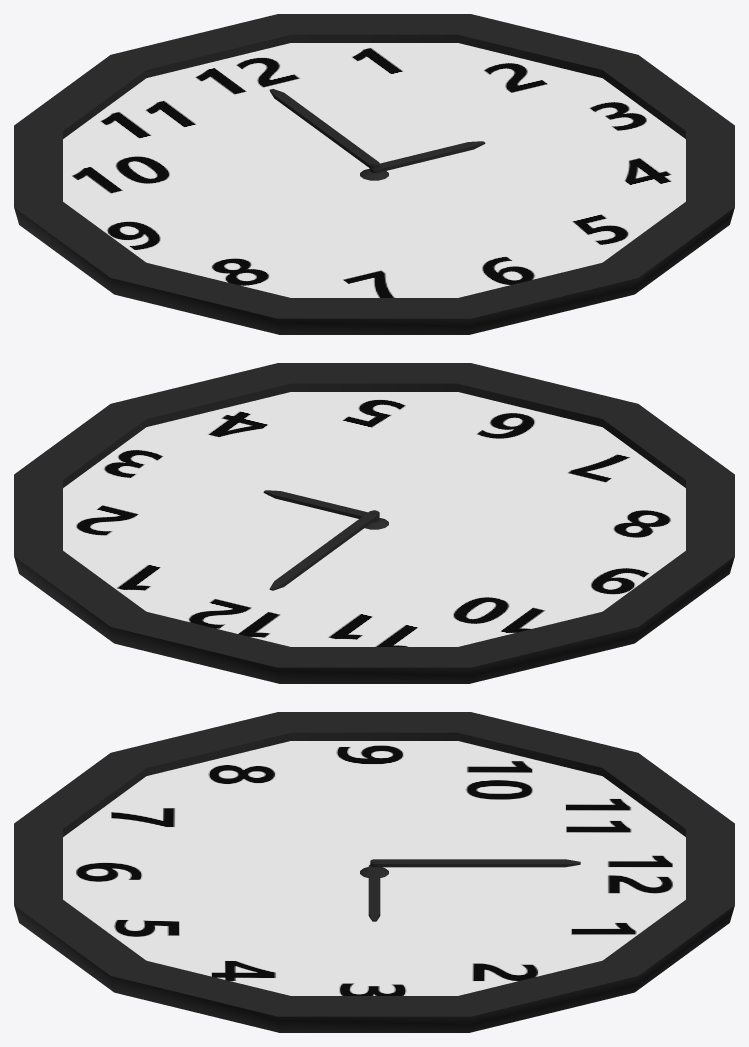
Rendered from SM_Clock_001.fbx.
3 views of the same model, one above another, from view 1: azimuth 30°, elevation 25°; view 2: azimuth 150°, elevation 25°; view 3: azimuth 270°, elevation 25° (orthographic).
Parts seen in each view (by area): view 1: Clock; view 2: Clock; view 3: Clock.
Part boxes in pixels (x1,y1,x2,y2): Clock: [14, 14, 734, 334]; Clock: [14, 363, 734, 683]; Clock: [14, 712, 734, 1032].
Bounding box in the file's own units: 31 × 1.9 × 31.
